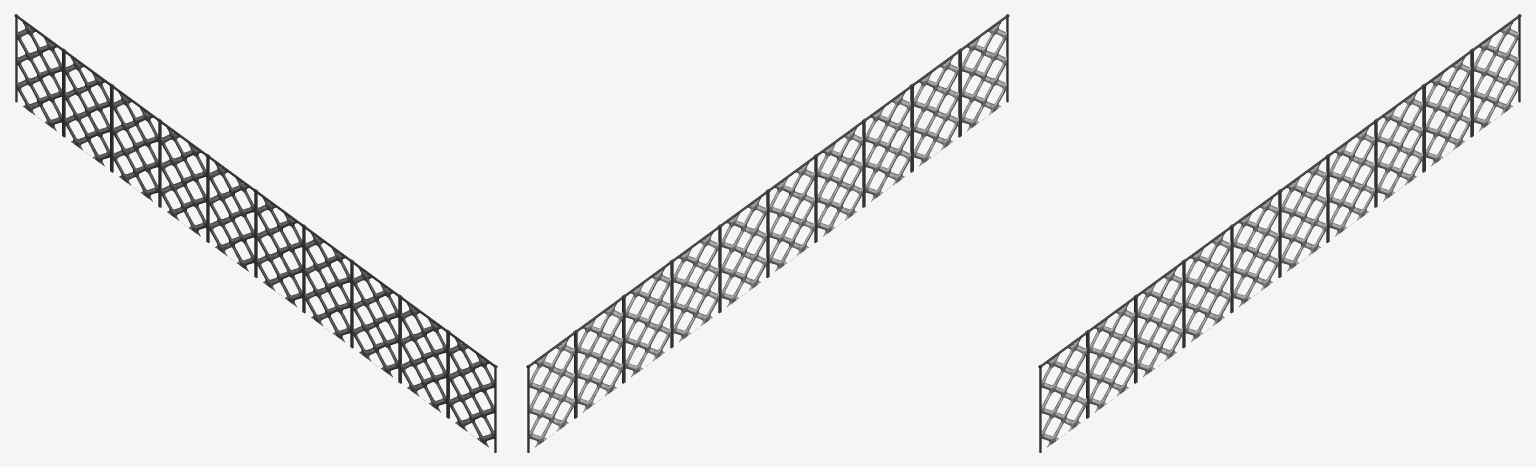
The model's file is Fence_10x.fbx.
3 renders of one model, left to right at view 1: azimuth 30°, elevation 25°; view 2: azimuth 150°, elevation 25°; view 3: azimuth 330°, elevation 25°, orthographic.
Parts seen in each view (by area): view 1: Fence_10x; view 2: Fence_10x; view 3: Fence_10x.
Part boxes in pixels (left/top/right/bottom): Fence_10x: left=14, top=14, right=497, bottom=452; Fence_10x: left=526, top=14, right=1009, bottom=452; Fence_10x: left=1038, top=14, right=1521, bottom=452.
Size of the model in its own units: 11.19 by 317 by 3153.
